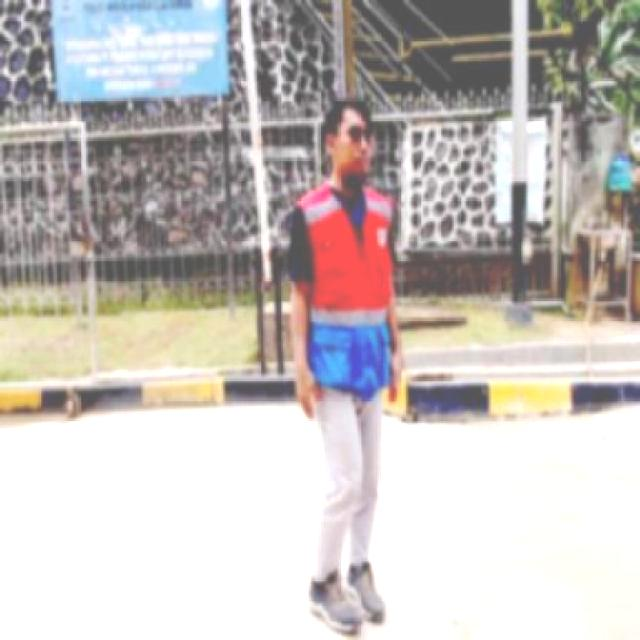Boots: (304, 562, 362, 636), (344, 557, 388, 626)
